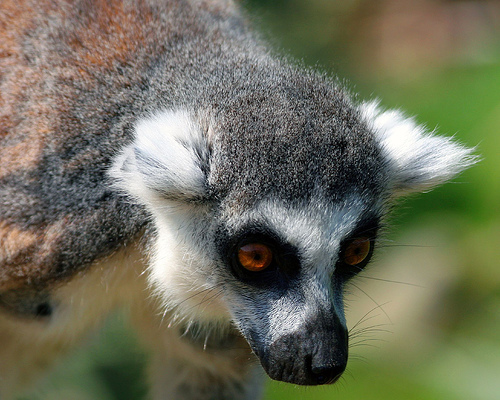cat: (0, 1, 481, 387)
